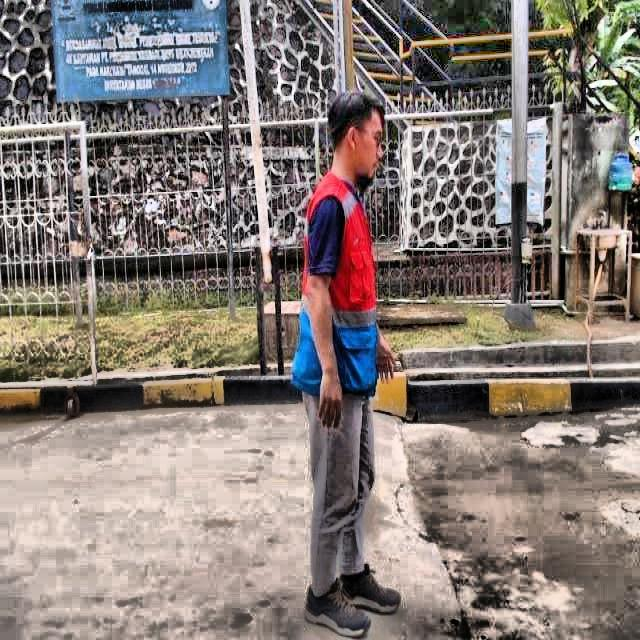safety_jacket: (282, 152, 395, 409)
